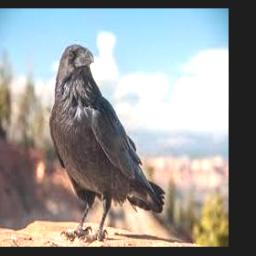Crow: (50, 44, 165, 242)
